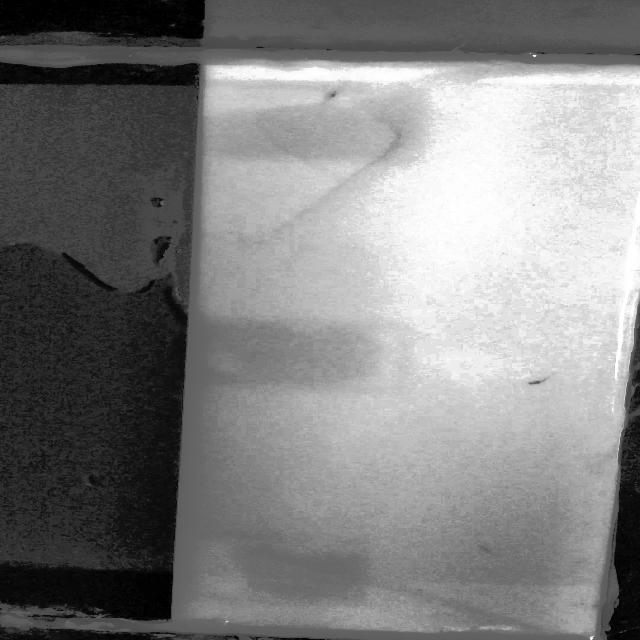shrimp: (524, 370, 559, 390), (321, 85, 343, 102), (477, 544, 500, 554)
